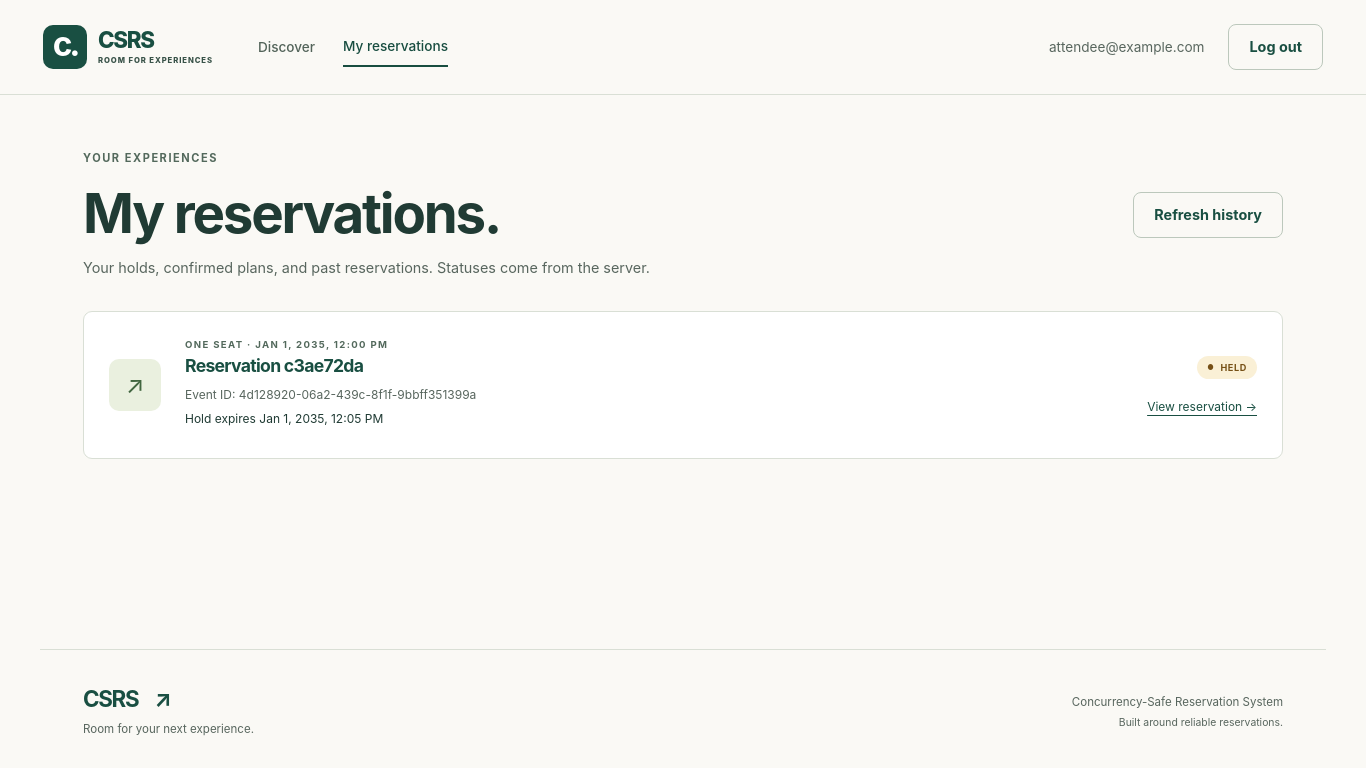
Scenario: session and authentication interaction › clears private history on logout
Click the button "Log out": {"x": 1276, "y": 47} [1228,24,1323,70]
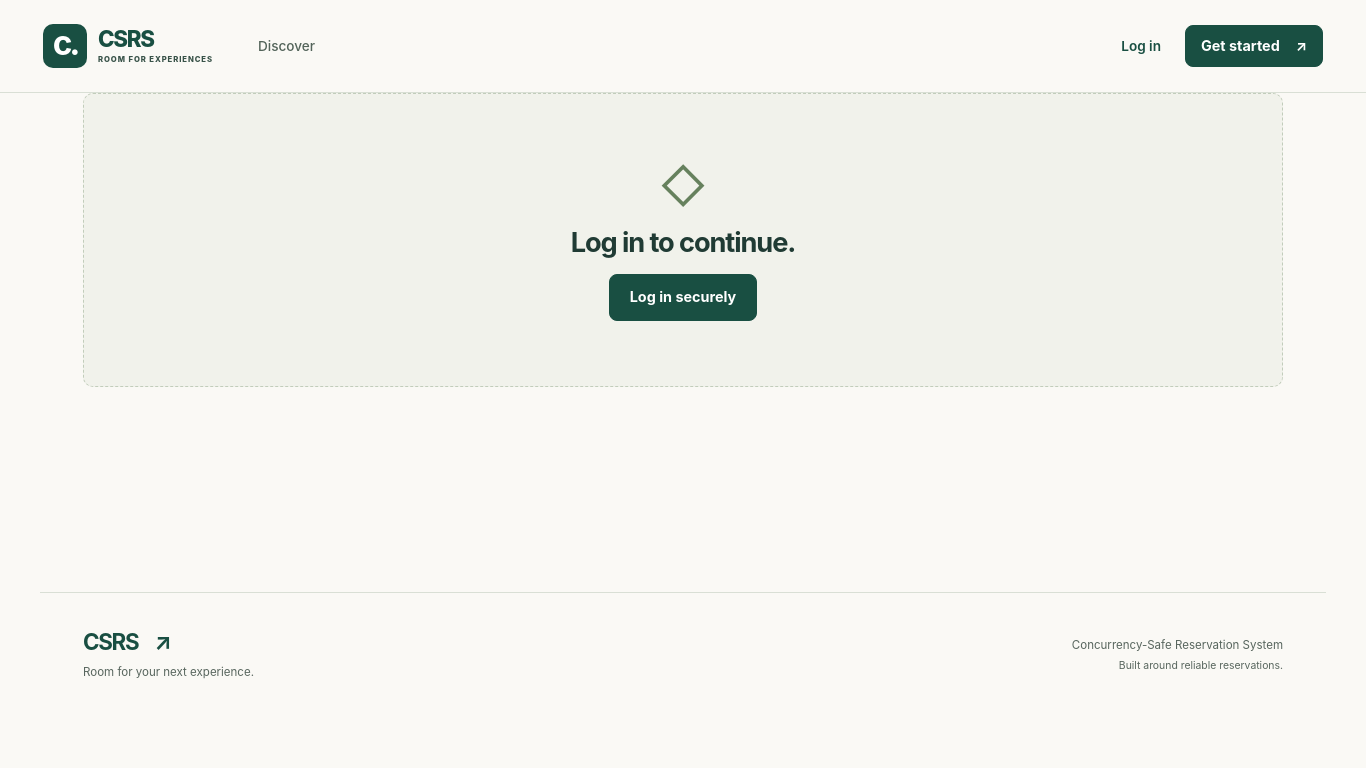
Expected: the link "Log in securely" is shown, [609,274,757,321]
